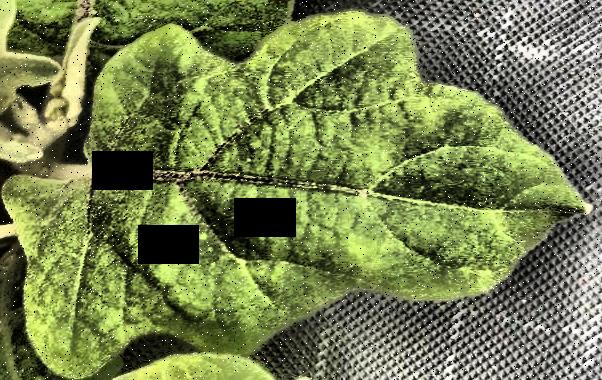HEALTHY: (1, 0, 602, 380)
